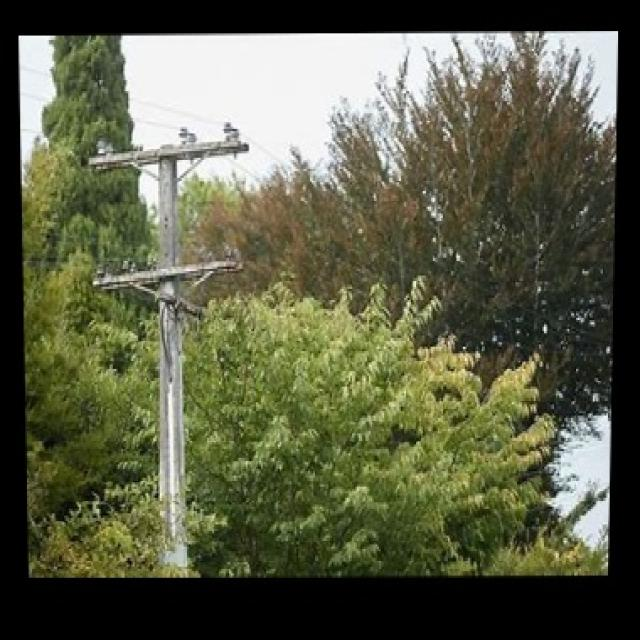utility poles: (60, 92, 328, 553)
